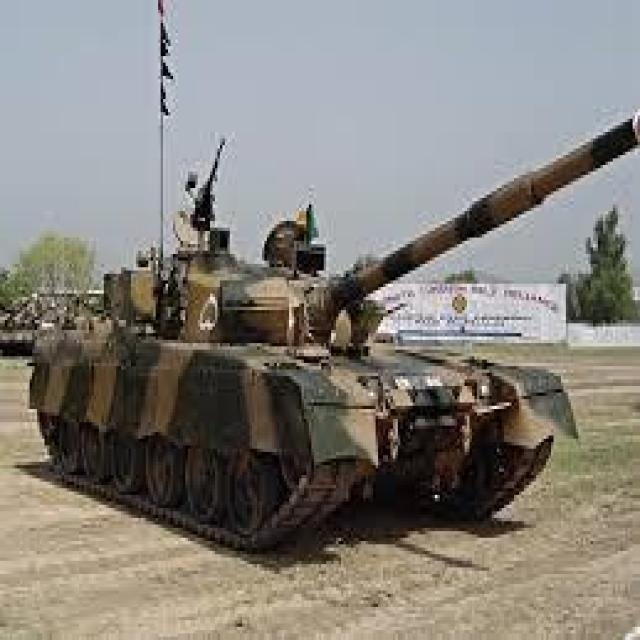Tanks: (15, 90, 576, 632)
